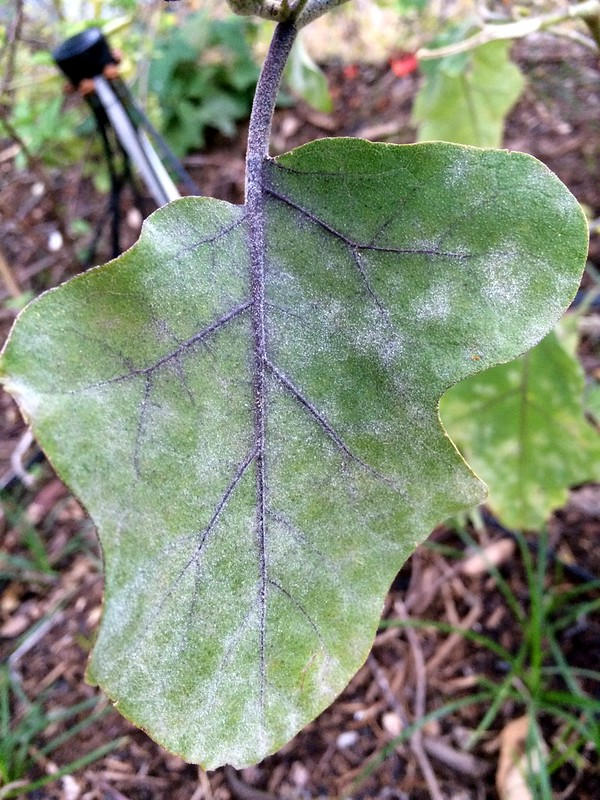Eggplant_PowderyMildew: (65, 171, 576, 753)
